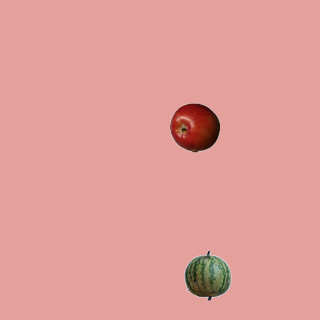Apple Braeburn: (169, 102, 219, 152)
Watermelon: (182, 250, 232, 300)
